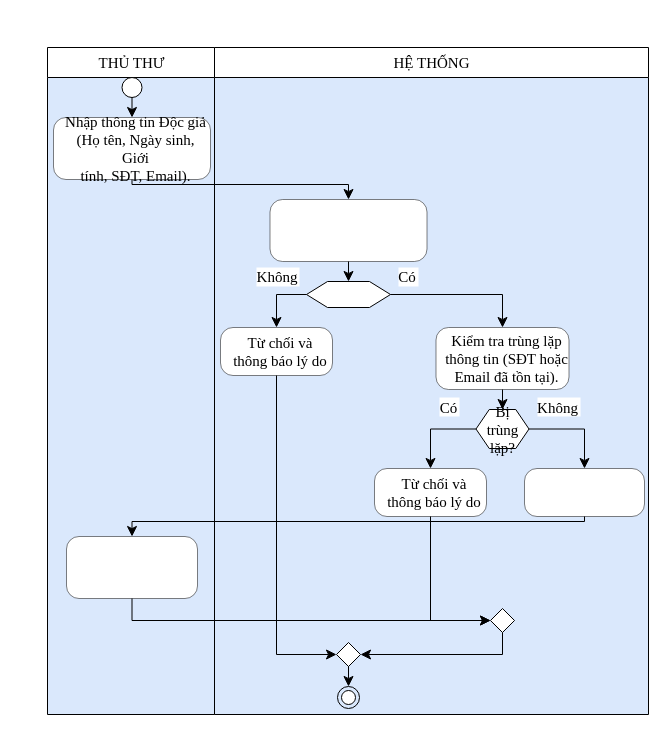
Some shapes in this 666 by 732 pixel diagram are drawn without their labels. Here are the shapes that lost their labels. From the top down, the centre of each, then its label:
(348,230): Kiểm tra dữ liệu (định dạng email, sdt, độ tuổi hợp lệ, bỏ trống).
(348,294): Dữ liệu hợp lệ?
(584,492): Lưu hồ sơ Độc giả mới vào CSDL.
(131,567): Nhận thông báo thành công và xem hồ sơ độc giả.
